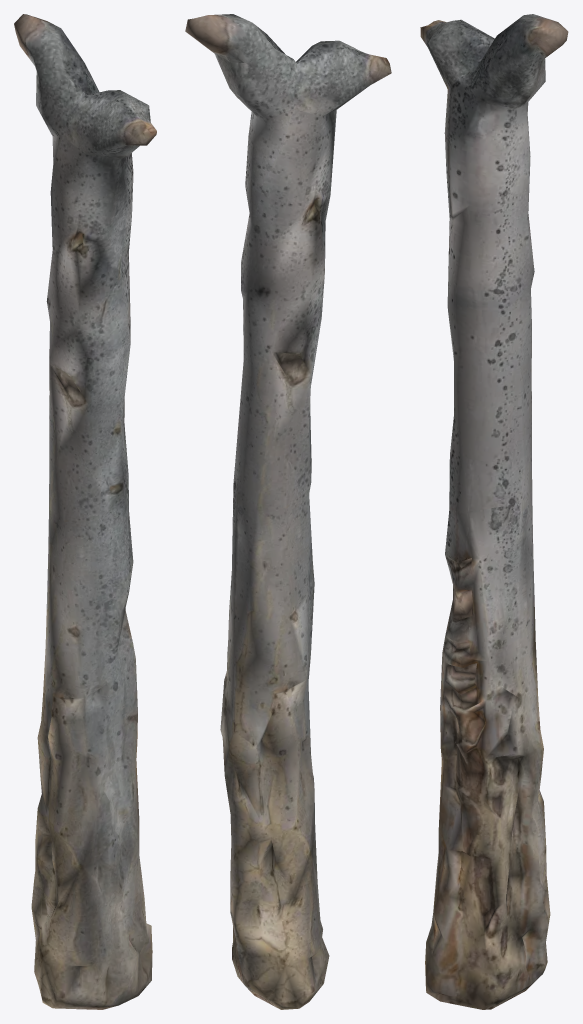
Rendered from dead_quiver_trunk.glb.
The picture shows the model from 3 angles, left to right: view 1: azimuth 90°, elevation 25°; view 2: azimuth 150°, elevation 25°; view 3: azimuth 270°, elevation 25°; orthographic projection. The views are drawn at different scales.
Visible parts, largest first — view 1: dead_quiver_trunk_LOD0; view 2: dead_quiver_trunk_LOD0; view 3: dead_quiver_trunk_LOD0.
Part boxes in pixels (x1,y1,x2,y2): dead_quiver_trunk_LOD0: [14, 14, 156, 1009]; dead_quiver_trunk_LOD0: [185, 14, 391, 1009]; dead_quiver_trunk_LOD0: [420, 14, 568, 1009].
Size of the model in its own units: 0.3045 by 1.99 by 0.2681.
Materials: 1 (1 with a texture image).
